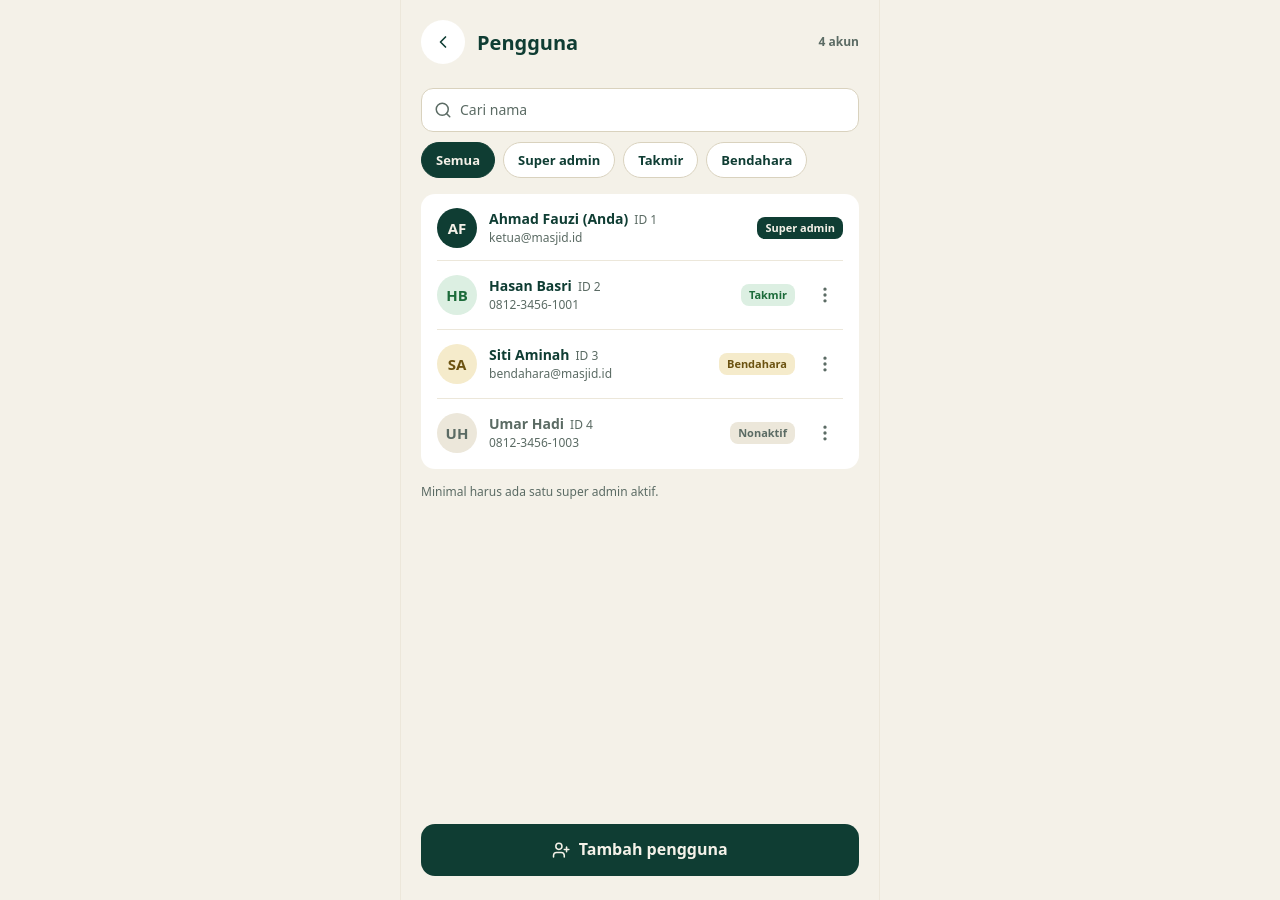
Test: UsersPage › adds a user from the sheet and shows them in the list
This screenshot has width=1280, height=900.
Click the button "Tambah pengguna": (640, 850) [421,824,859,876]
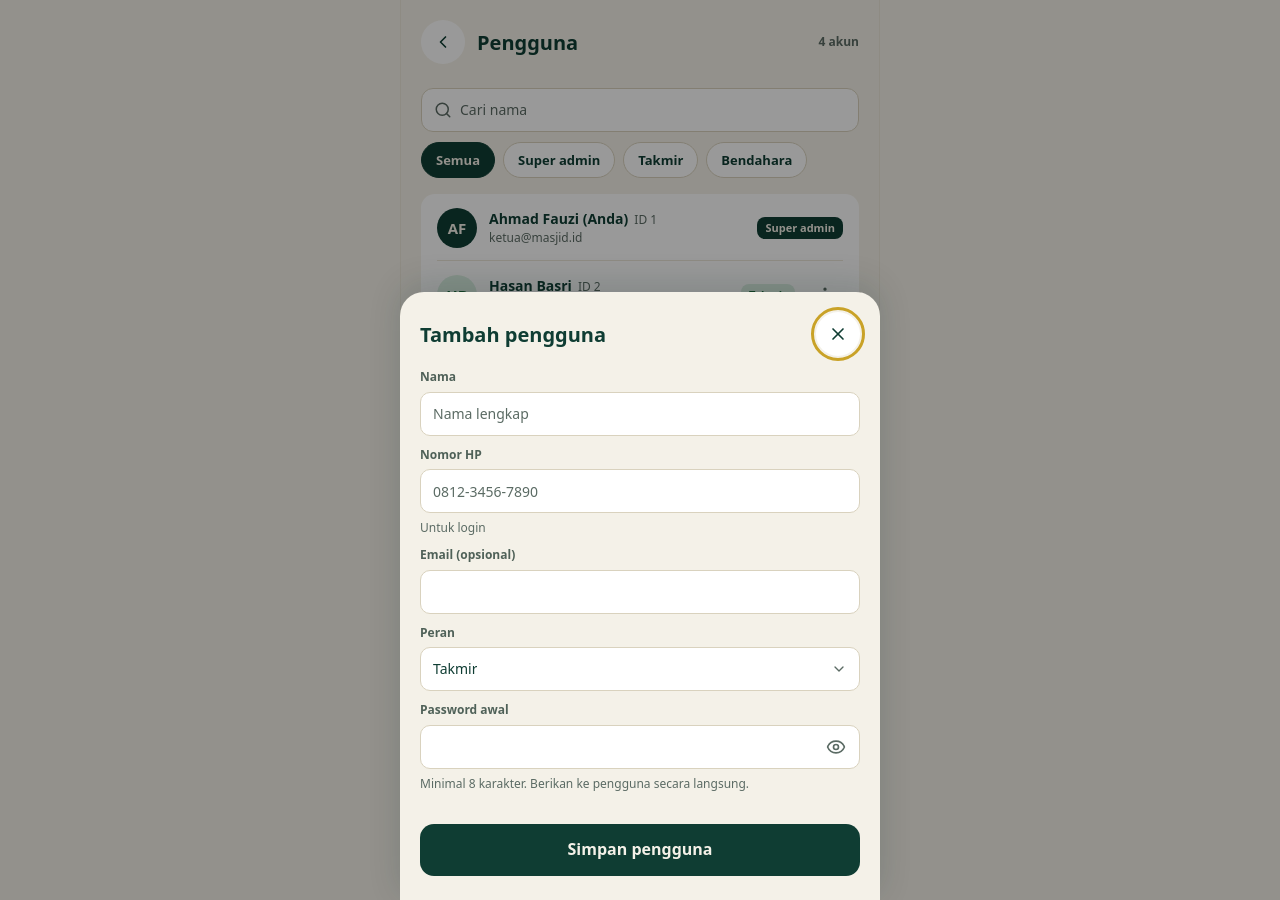
In the field labelled "Nama": (640, 414) [420,392,860,436], type "Yusuf Ramli"
In the field labelled "Nomor HP": (640, 491) [420,469,860,513], type "0812 9999 0001"
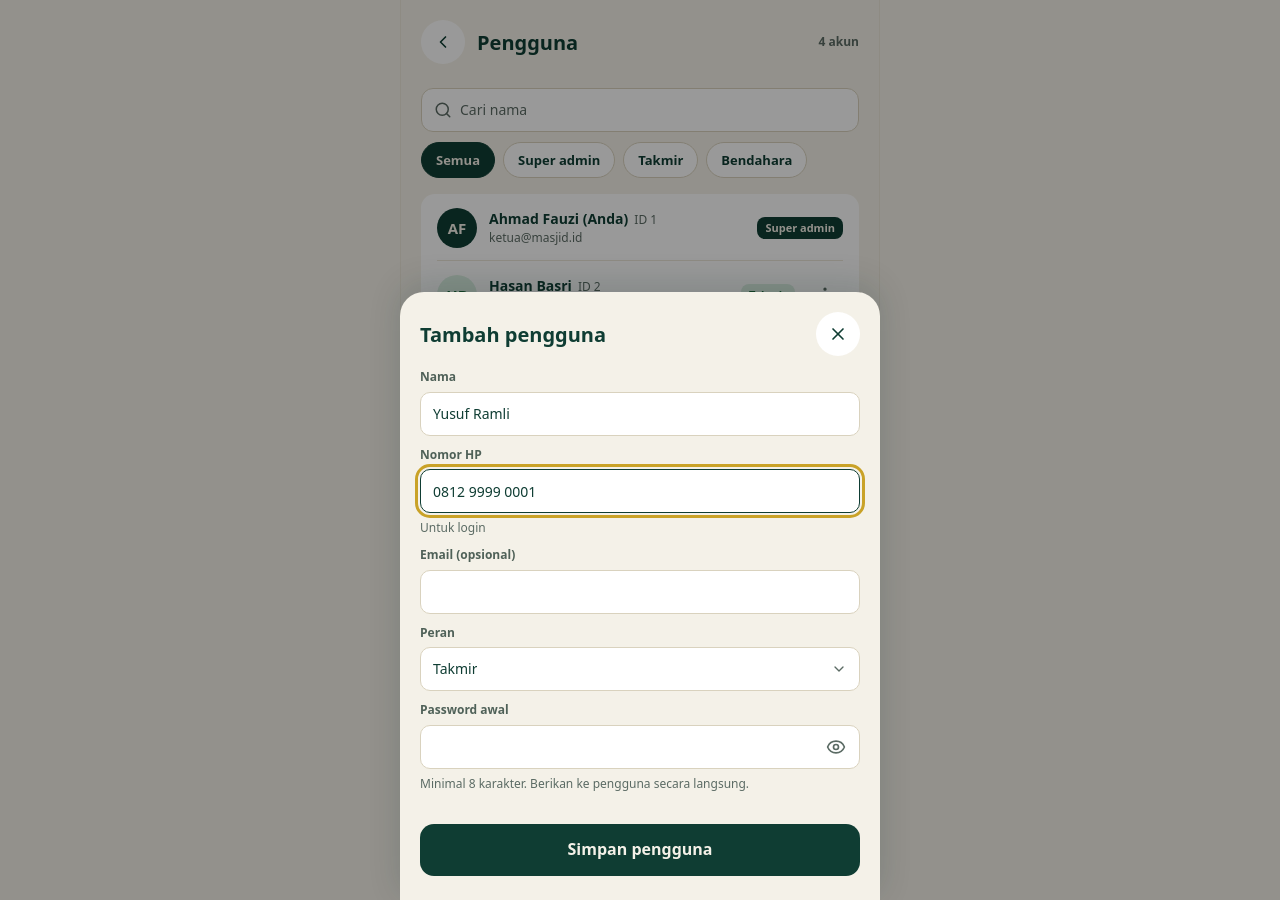
Click the dropdown named "Peran": (455, 669) [420,647,860,691]
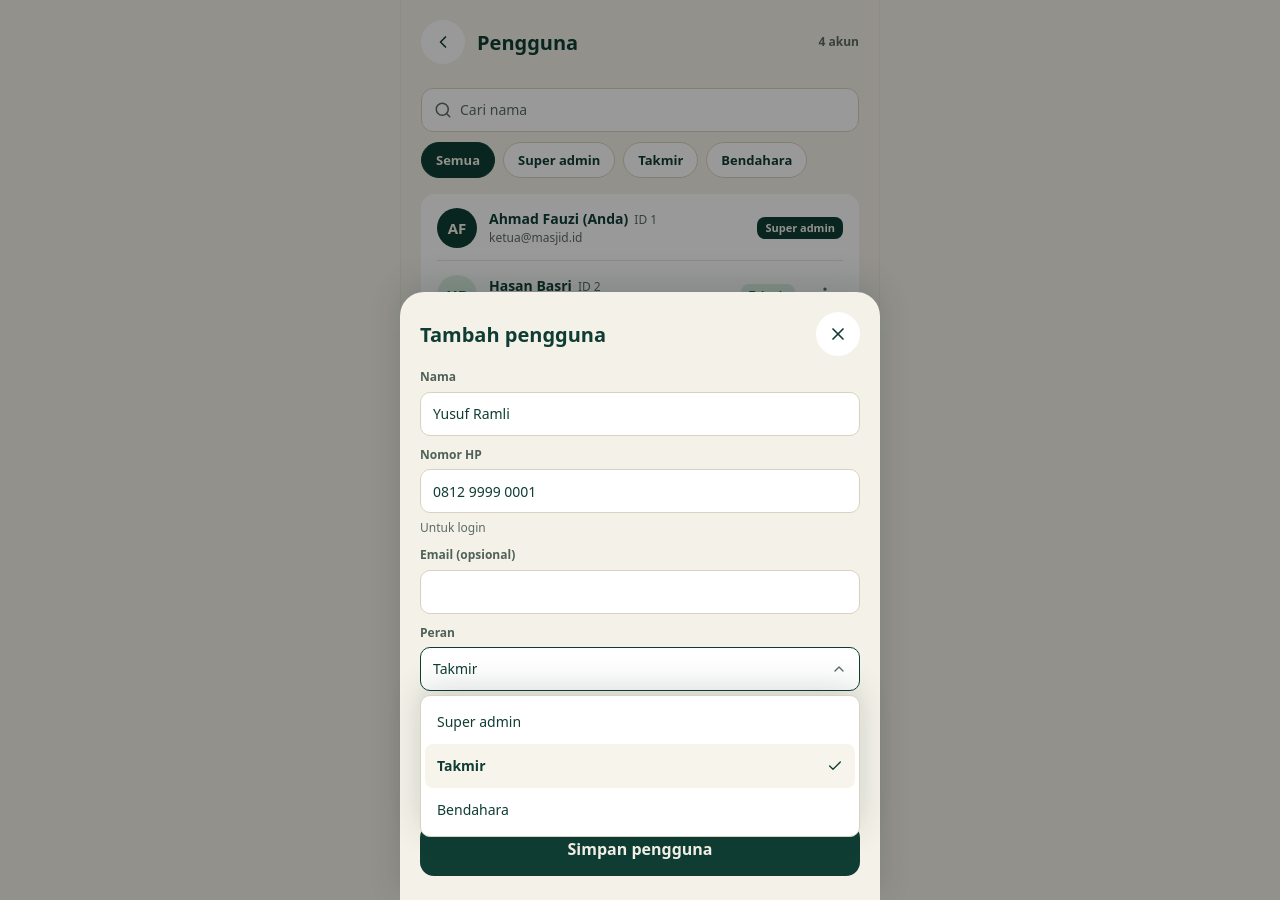
Click the option "Bendahara": (473, 810) [437,800,509,819]
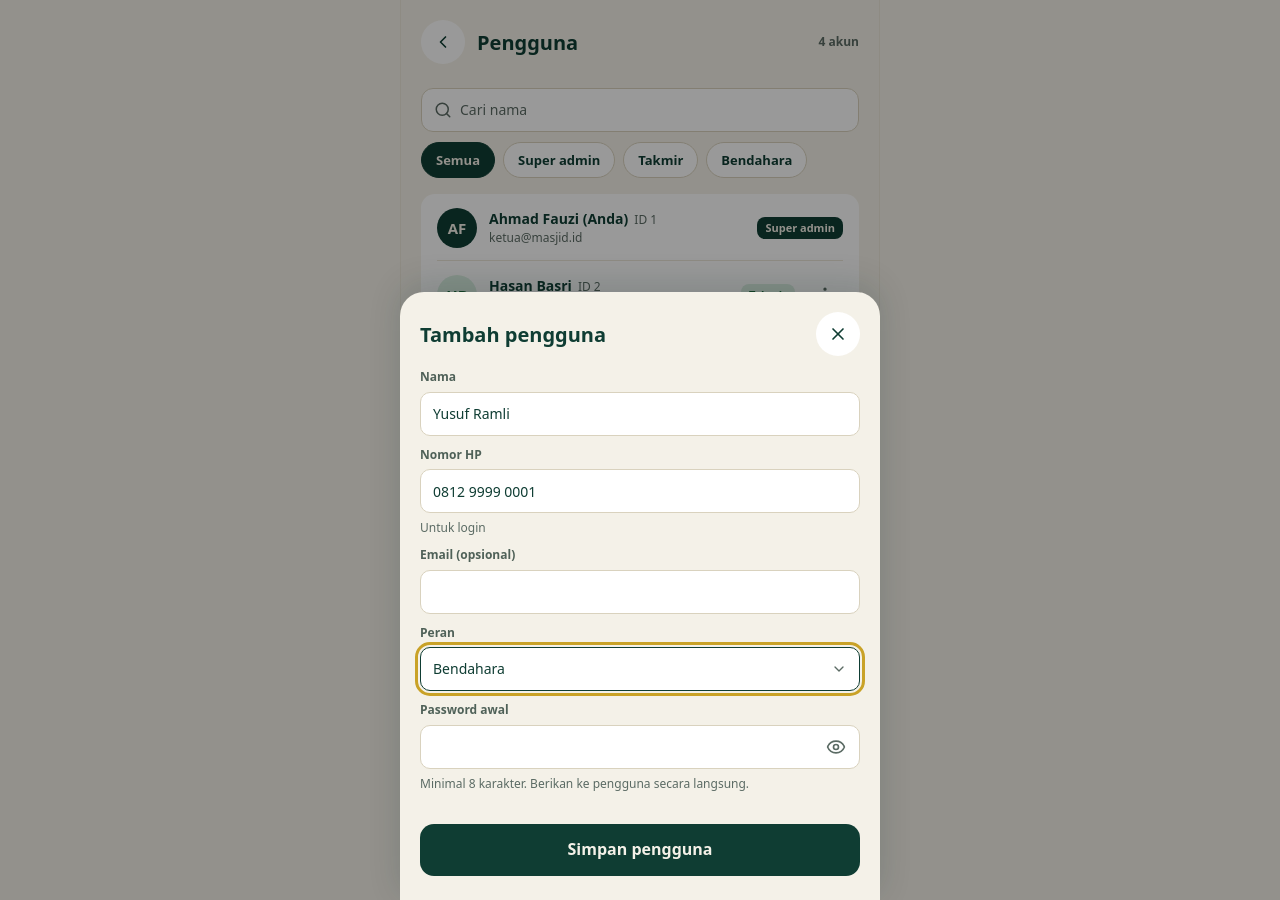
In the password field labelled "Password awal": (640, 747) [420,725,860,769], type "rahasia-kuat"
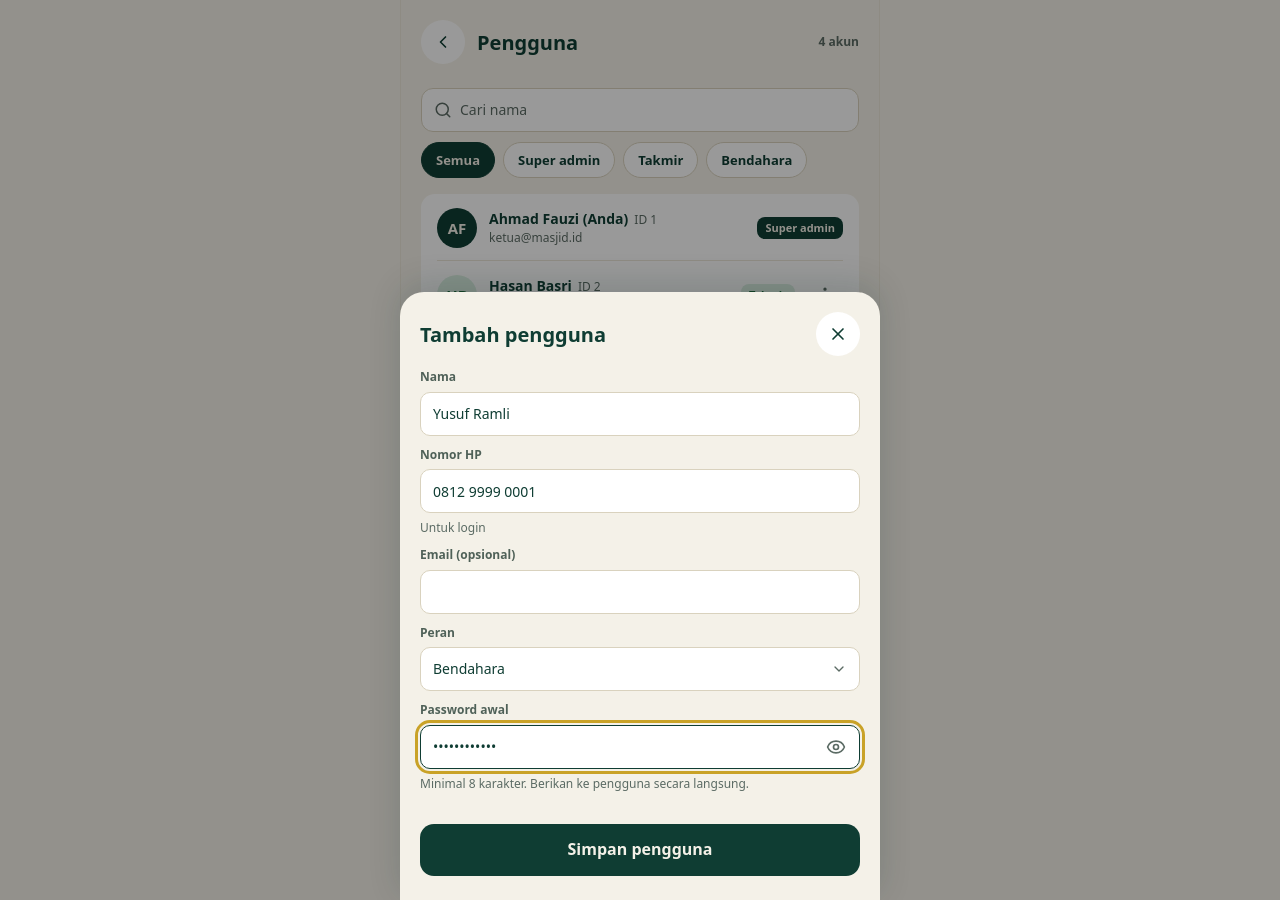
Click the button "Simpan pengguna": (640, 850) [420,824,860,876]
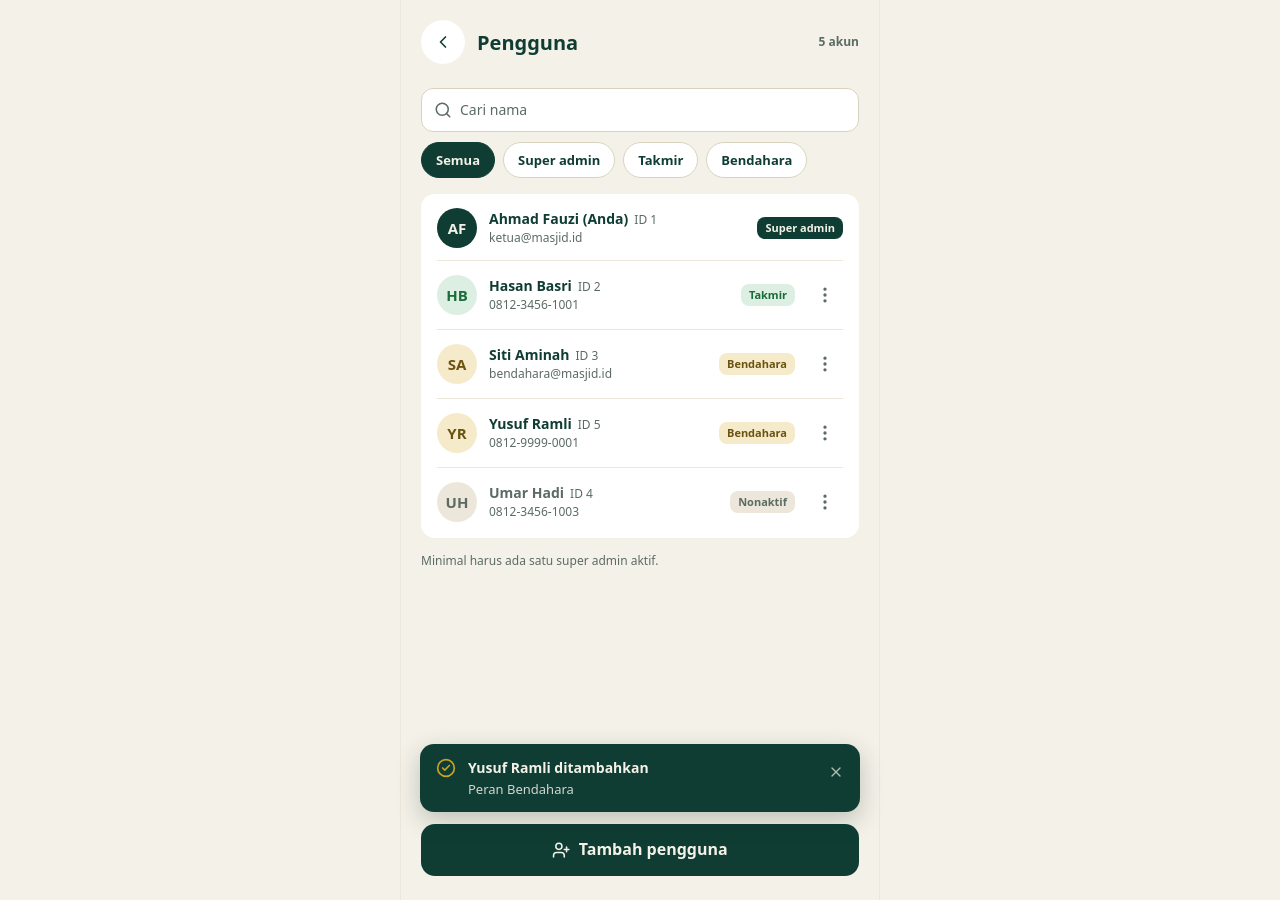
Result: the text "Yusuf Ramli" is shown at [489,414,572,433]
Result: the text "5 akun" is shown at [818,33,859,51]
